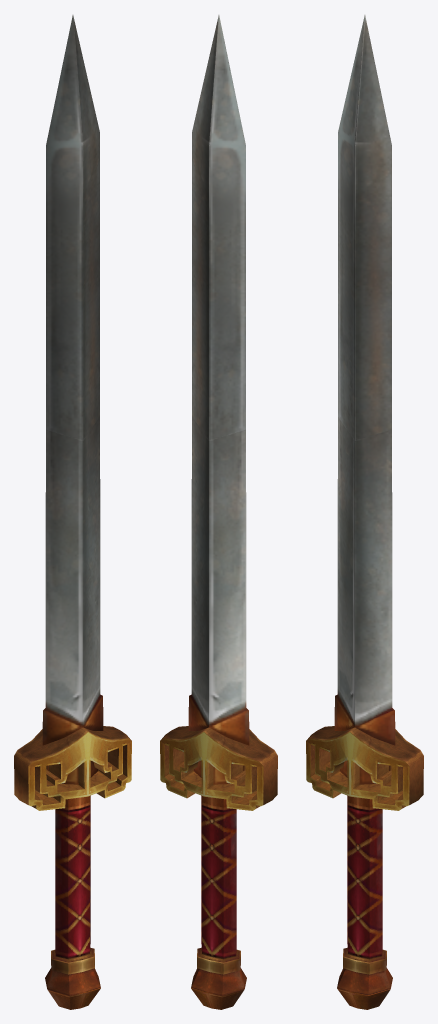
The model's file is 1047_wuqi_1.FBX.
The picture shows the model from 3 angles, left to right: view 1: azimuth 30°, elevation 25°; view 2: azimuth 150°, elevation 25°; view 3: azimuth 330°, elevation 25°; orthographic projection.
Visible parts, largest first — view 1: W1047_1; view 2: W1047_1; view 3: W1047_1.
Part boxes in pixels (x1,y1,x2,y2): W1047_1: [14, 15, 131, 1009]; W1047_1: [160, 15, 277, 1009]; W1047_1: [306, 15, 423, 1009].
Bounding box in the file's own units: 19.22 × 169 × 9.37.
